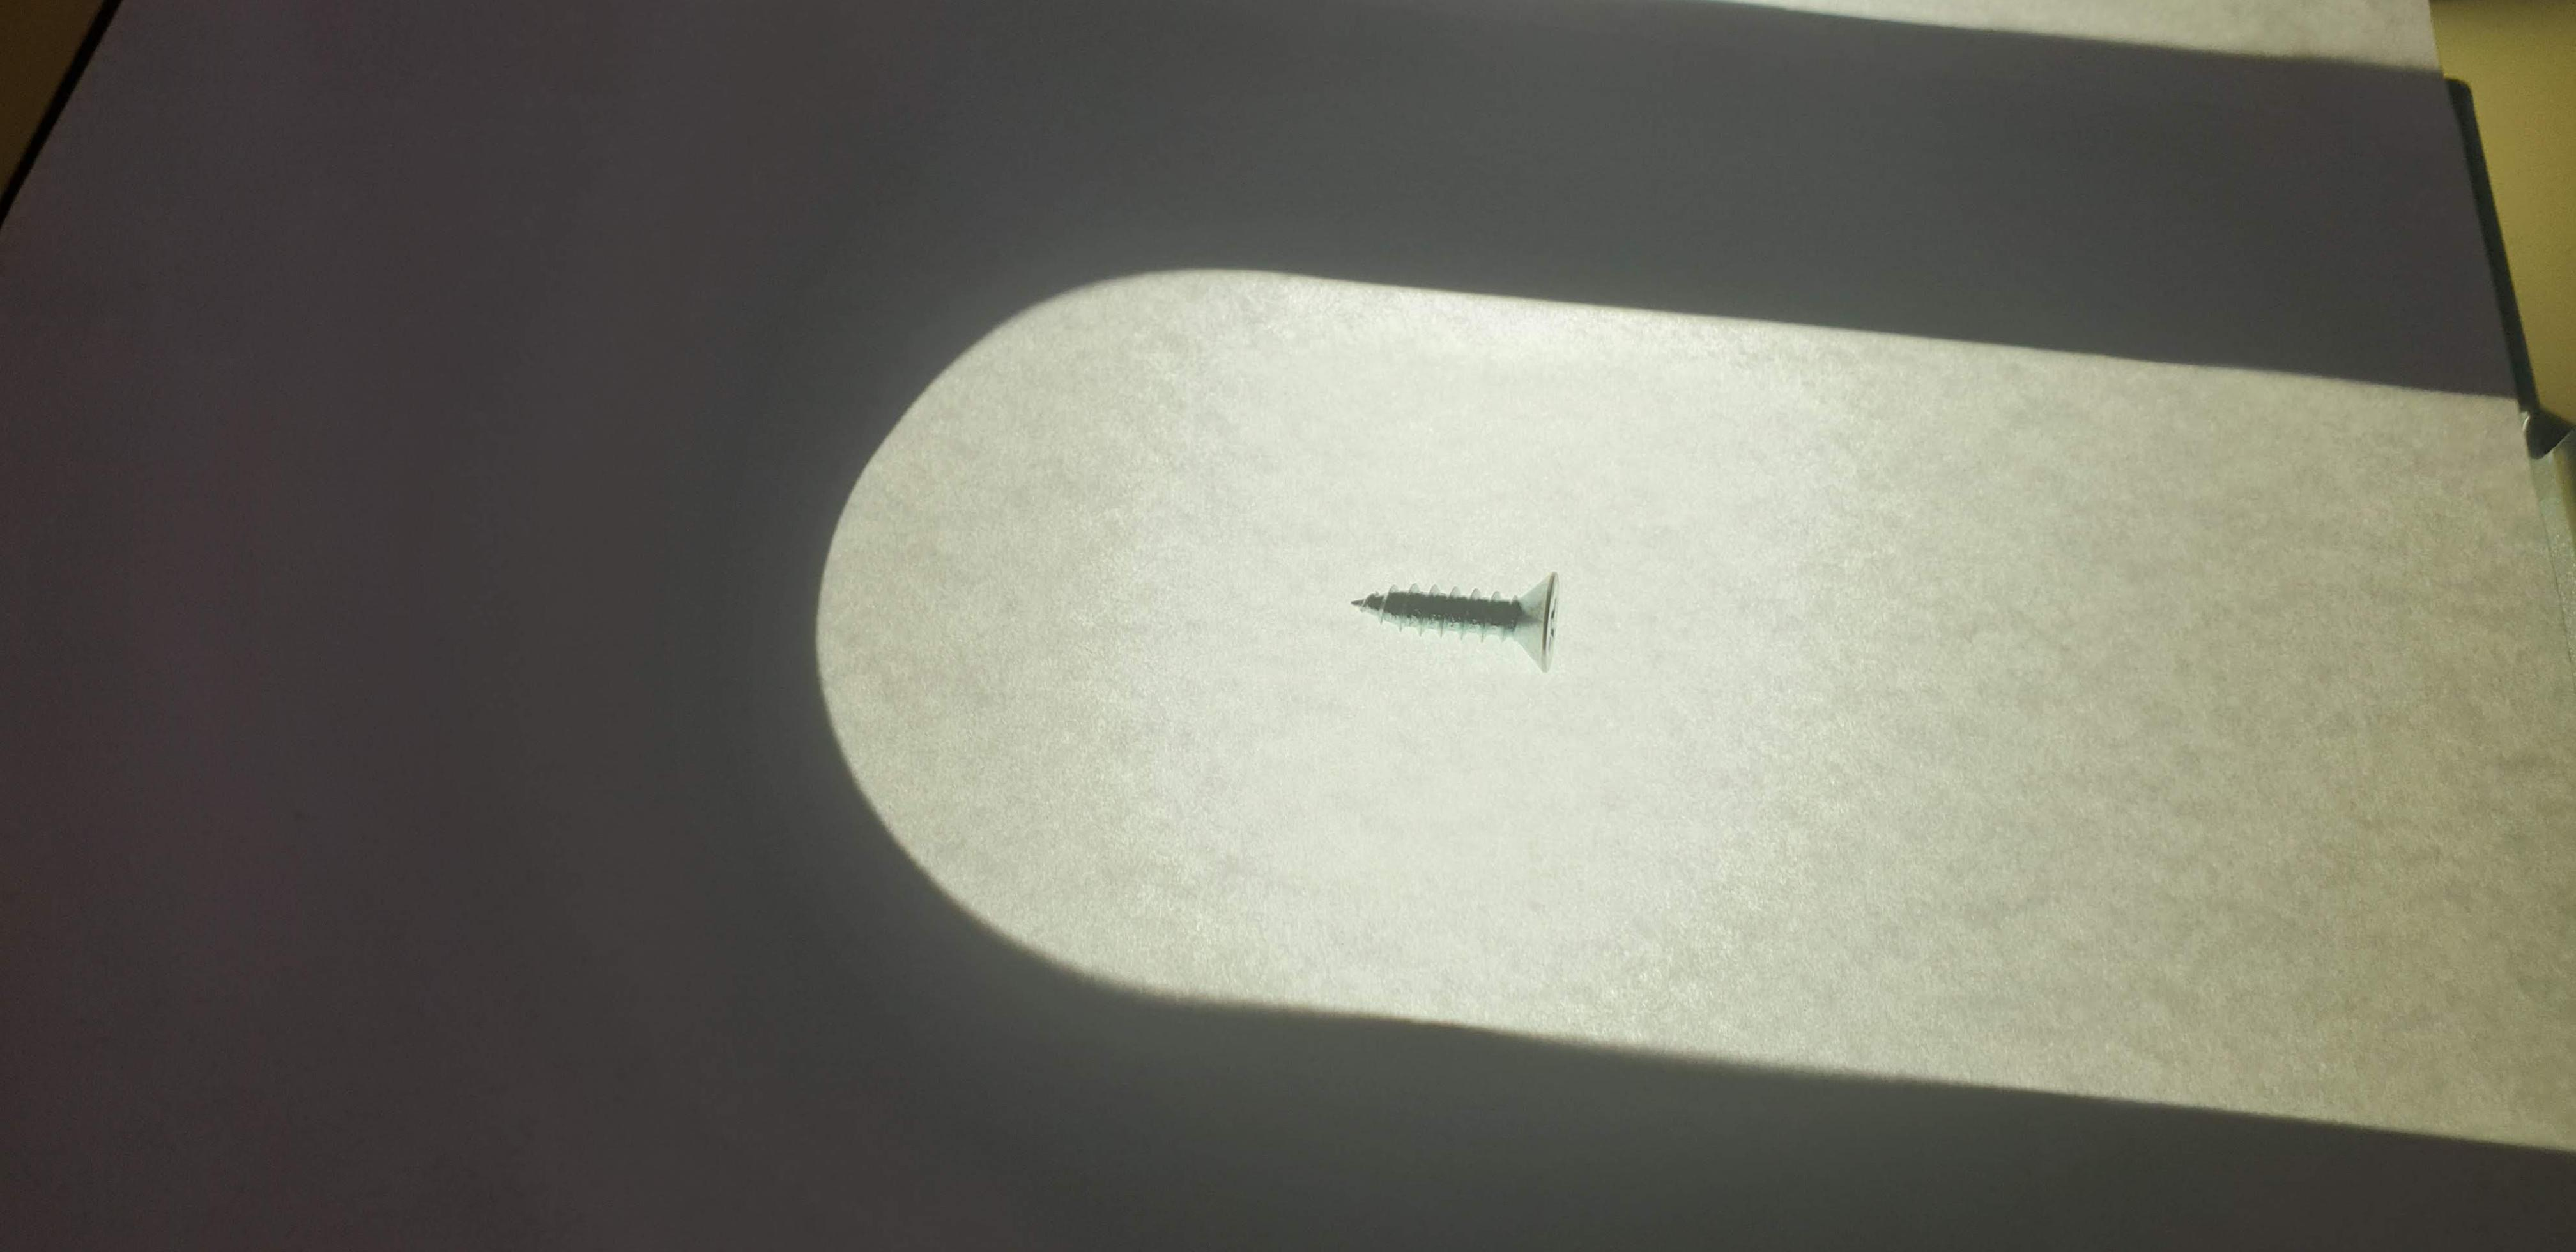S003: (1309, 552, 1628, 685)
